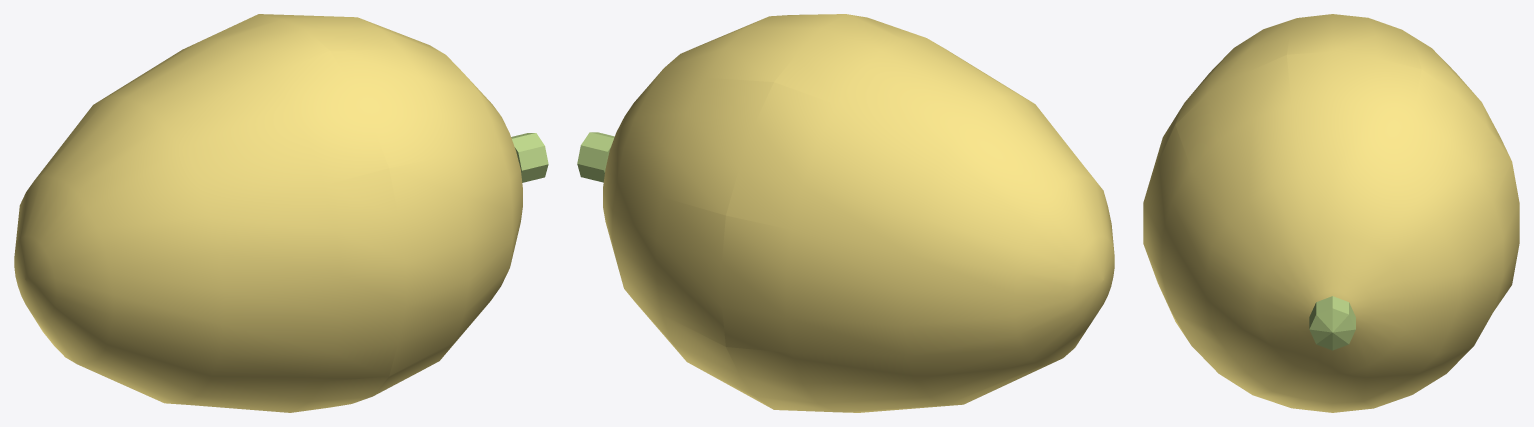
File: fresh-produce-and-groceries-lemon-7ae92bf0__24329.glb
The picture shows the model from 3 angles, left to right: view 1: azimuth 30°, elevation 25°; view 2: azimuth 150°, elevation 25°; view 3: azimuth 270°, elevation 25°; orthographic projection. The views are drawn at different scales.
Parts seen in each view (by area): view 1: lemon; view 2: lemon; view 3: lemon.
Part boxes in pixels (<box>): lemon: <box>14,14,548,412</box>; lemon: <box>577,14,1114,412</box>; lemon: <box>1143,14,1519,412</box>.
Size of the model in its own units: 0.0775 by 0.052 by 0.0516.
